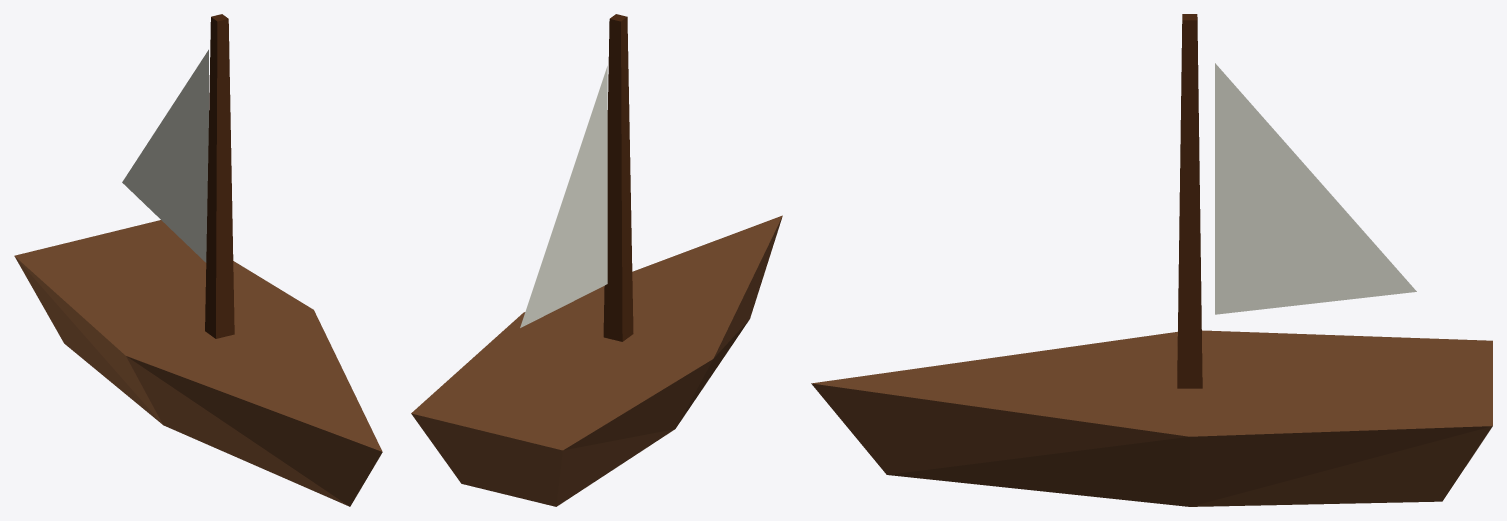
The model's file is boat.obj.
The picture shows the model from 3 angles, left to right: view 1: azimuth 30°, elevation 25°; view 2: azimuth 150°, elevation 25°; view 3: azimuth 270°, elevation 25°; orthographic projection. The views are drawn at different scales.
Parts seen in each view (by area): view 1: Sailboat; view 2: Sailboat; view 3: Sailboat.
Part boxes in pixels (box(x1,y1,x2,y2)): Sailboat: box(14, 14, 382, 506); Sailboat: box(411, 14, 782, 506); Sailboat: box(811, 14, 1492, 506).
Size of the model in its own units: 1 by 2 by 2.7.
